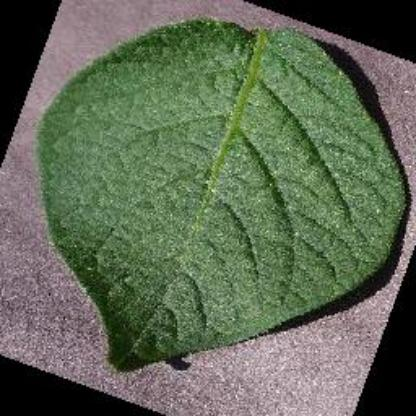Healthy-plant: (36, 11, 414, 375)
